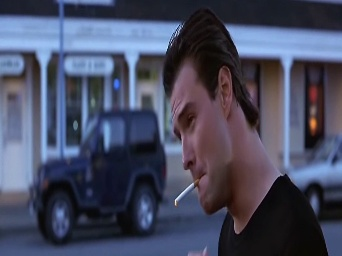smoke: (173, 176, 200, 207)
